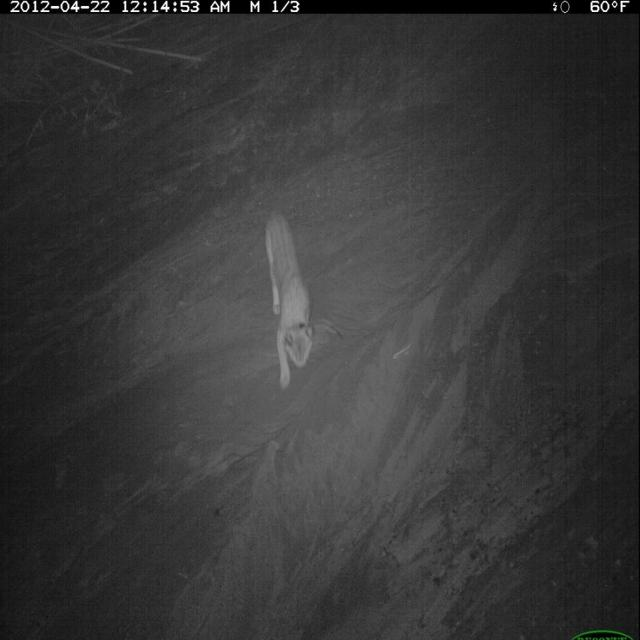bobcat: (261, 204, 318, 393)
